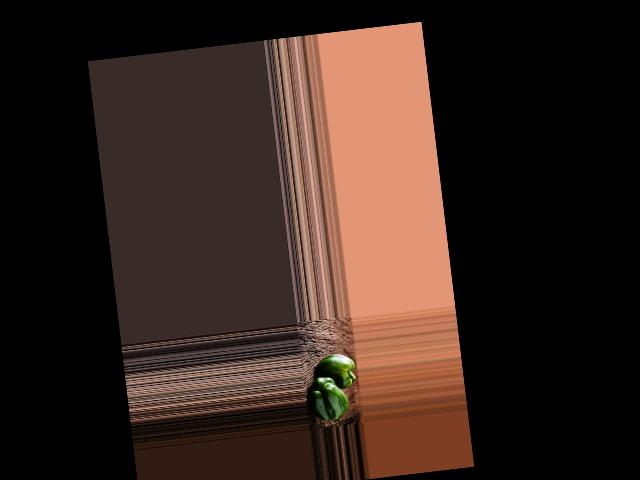bell_pepper: (308, 372, 351, 422)
